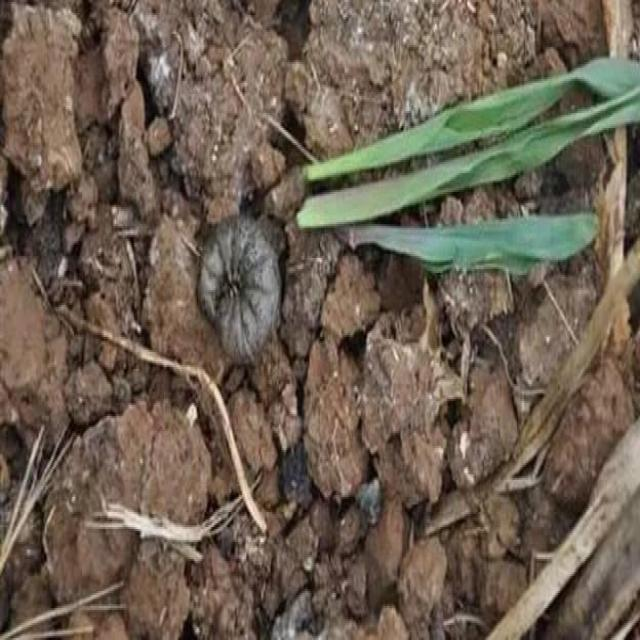black cutworm: (198, 218, 290, 368)
